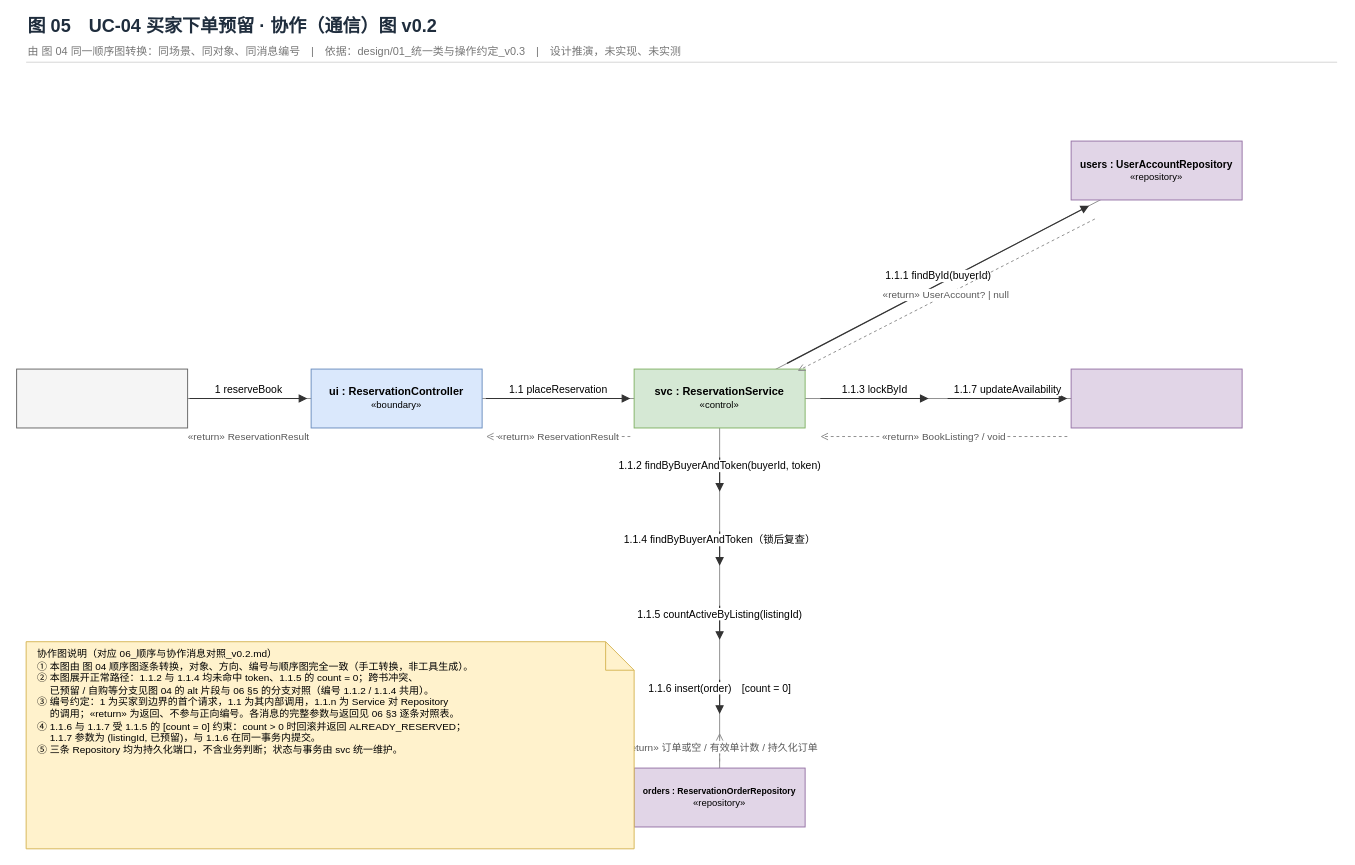
The diagram is 1355 pixels wide and 865 high, and some of its shapes have lost their labels. The shapes that lost their labels are listed below. From the top down, each one's centre as x and y in pixels, then its label:
point 102,398: buyer : 买家 «actor»
point 1156,398: books : BookListingRepository «repository»
